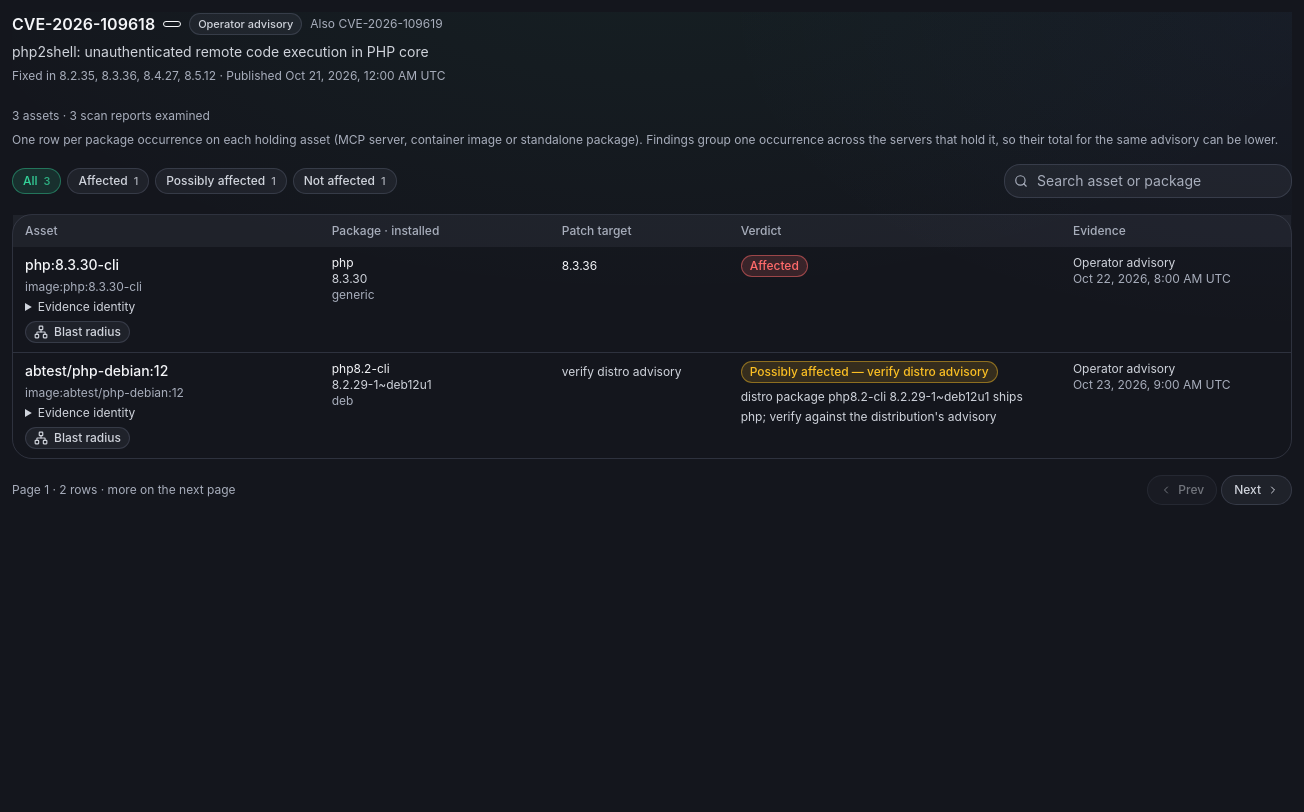
Scenario: advisory affected assets › pages with the opaque cursor and offers a reload when the snapshot changed (409)
Check: the table named "Affected assets" is shown, box [13,215,1291,458]
Click the button "Next".
click(1257, 490)  # box [1221,475,1292,505]
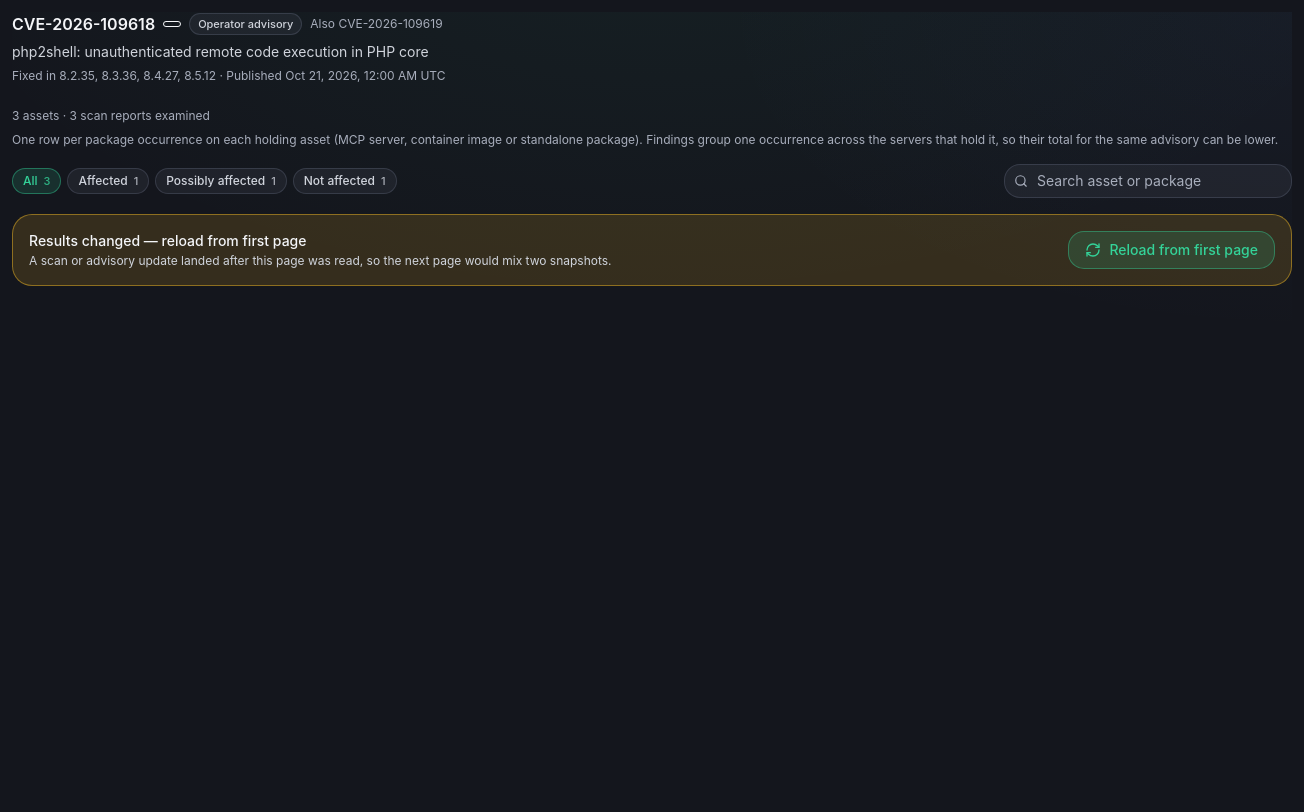
Check: the text "Results changed — reload from first page" is shown, box [29,232,306,249]
Click the button "Reload from first page".
click(1172, 250)  # box [1068,231,1275,269]
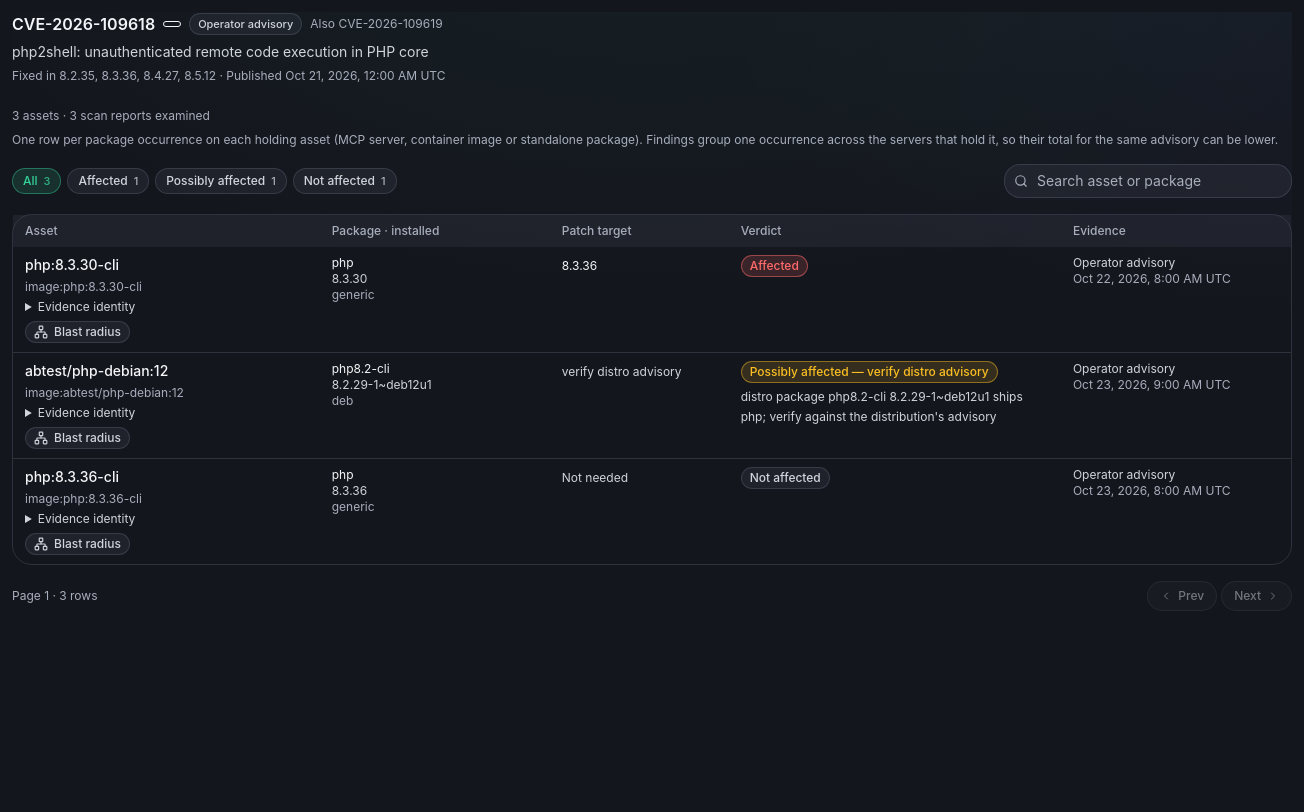
Check: the table named "Affected assets" is shown, box [13,215,1291,564]
Check: the text "Results changed — reload from first page" is gone
